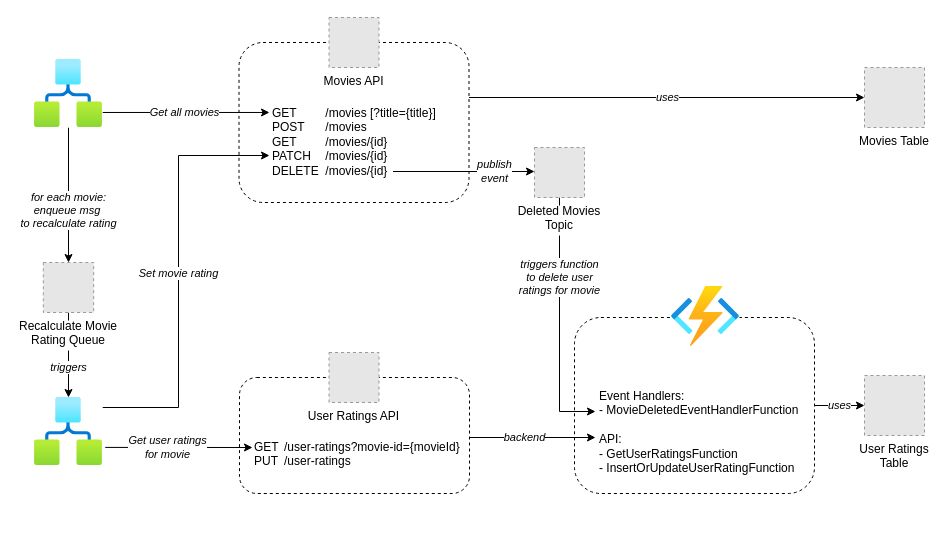
This 948x533 diagram has some shape labels left out. Grey dashed boxes stand in for pictures. Here are the shapes that lost their labels. From the top down, the centre of each, then its label:
the point at 68,93: Recaclulate Rating for All Movies Workflow
the point at 705,316: User Ratings Function App
the point at 68,431: Recaclulate Rating for Single Movie Workflow
